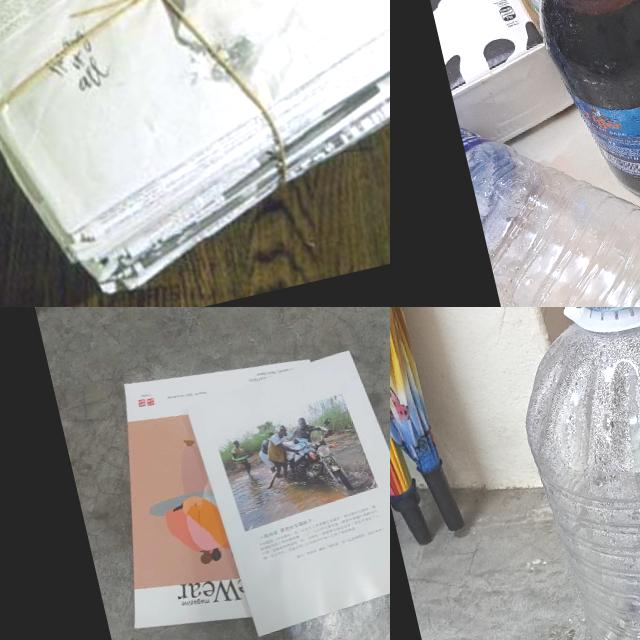caixinha: (399, 0, 583, 145)
garrafa de vidro: (492, 0, 640, 222)
garrafa plástica: (453, 52, 640, 307), (504, 307, 640, 640)
papel: (0, 0, 390, 307), (77, 321, 390, 640)
